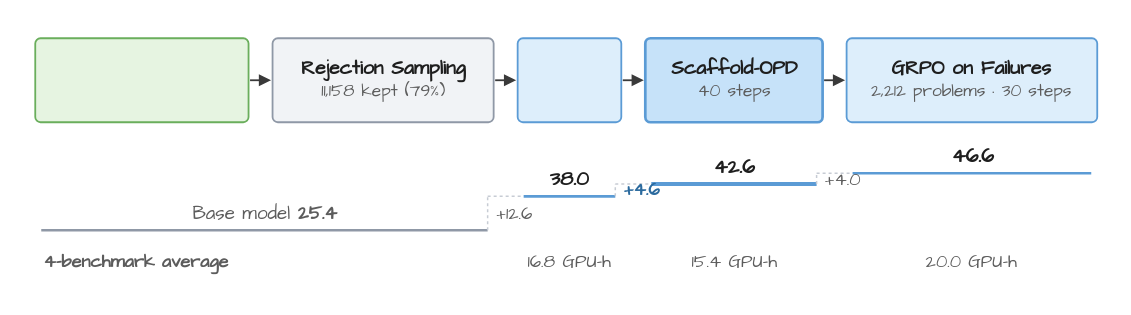
The diagram is 1131 pixels wide and 315 high, and some of its shapes have lost their labels. Here are the shapes that lost their labels. From the top down, the centre of each, then its label:
[141,79]: Teacher Solutions 14,116 problems
[568,79]: SFT 1 epoch
